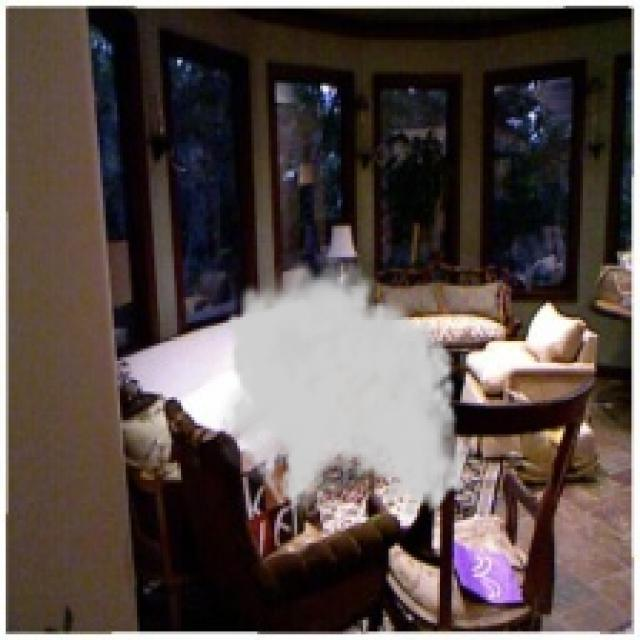Smoke: (212, 248, 468, 520)
